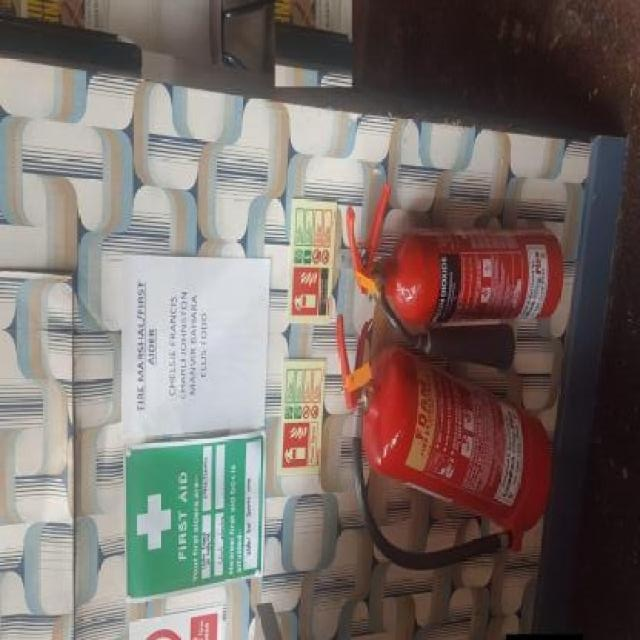fire extinguisher: (336, 313, 552, 567), (346, 184, 562, 368)
